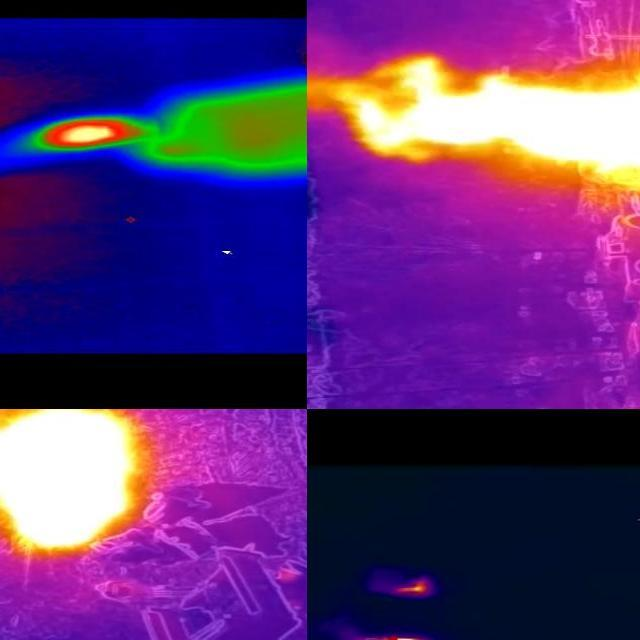fire: (353, 59, 640, 200), (1, 410, 145, 551), (22, 118, 154, 156), (393, 580, 431, 597)
